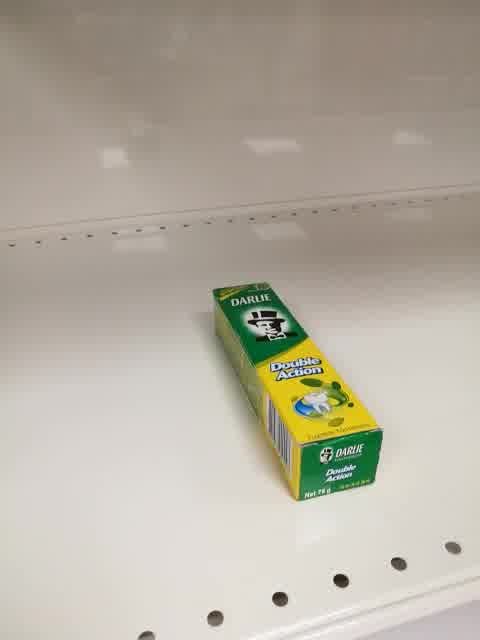toothpaste: (212, 281, 382, 503)
